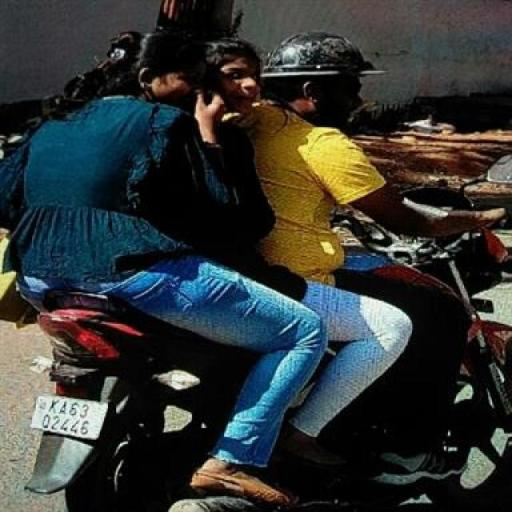tripple riding: (0, 22, 412, 326)
